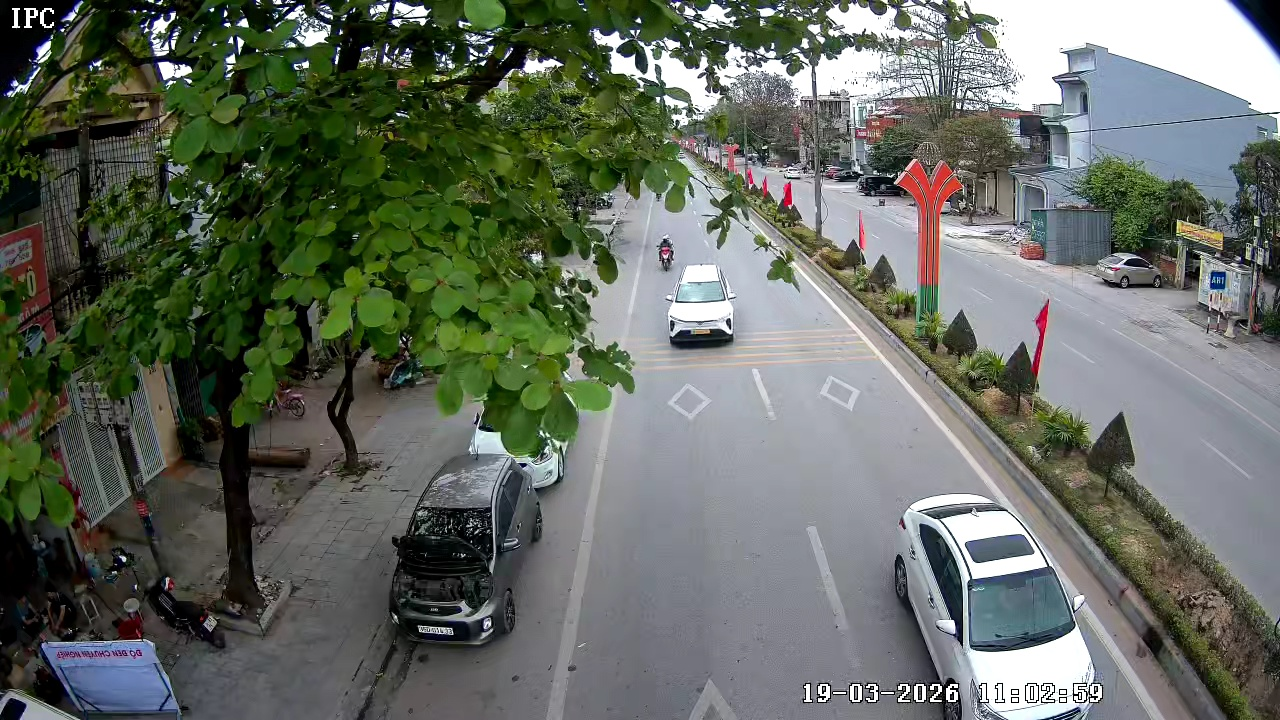car: (890, 491, 1105, 719), (388, 452, 545, 646), (665, 263, 738, 346), (1093, 250, 1166, 289)
motorbike: (705, 211, 730, 250), (656, 235, 676, 272)
